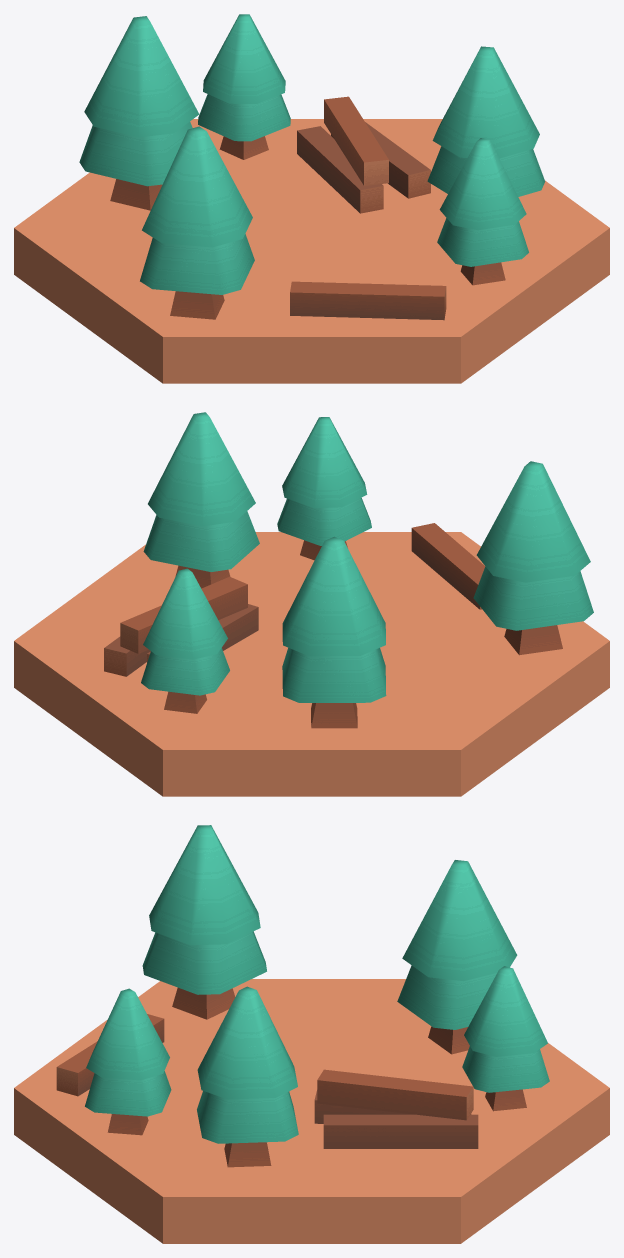
The model's file is dirt-lumber.glb.
3 views of the same model, one above another, from view 1: azimuth 30°, elevation 25°; view 2: azimuth 150°, elevation 25°; view 3: azimuth 270°, elevation 25° (orthographic).
Parts seen in each view (by area): view 1: dirt-lumber; view 2: dirt-lumber; view 3: dirt-lumber.
Boxes of the visible parts, x1=… form: dirt-lumber: x1=14, y1=14, x2=609, y2=383; dirt-lumber: x1=14, y1=412, x2=609, y2=796; dirt-lumber: x1=14, y1=825, x2=609, y2=1243.
Bounding box in the file's own units: 10 × 4.8 × 11.55.
Materials: 1 (1 with a texture image).
